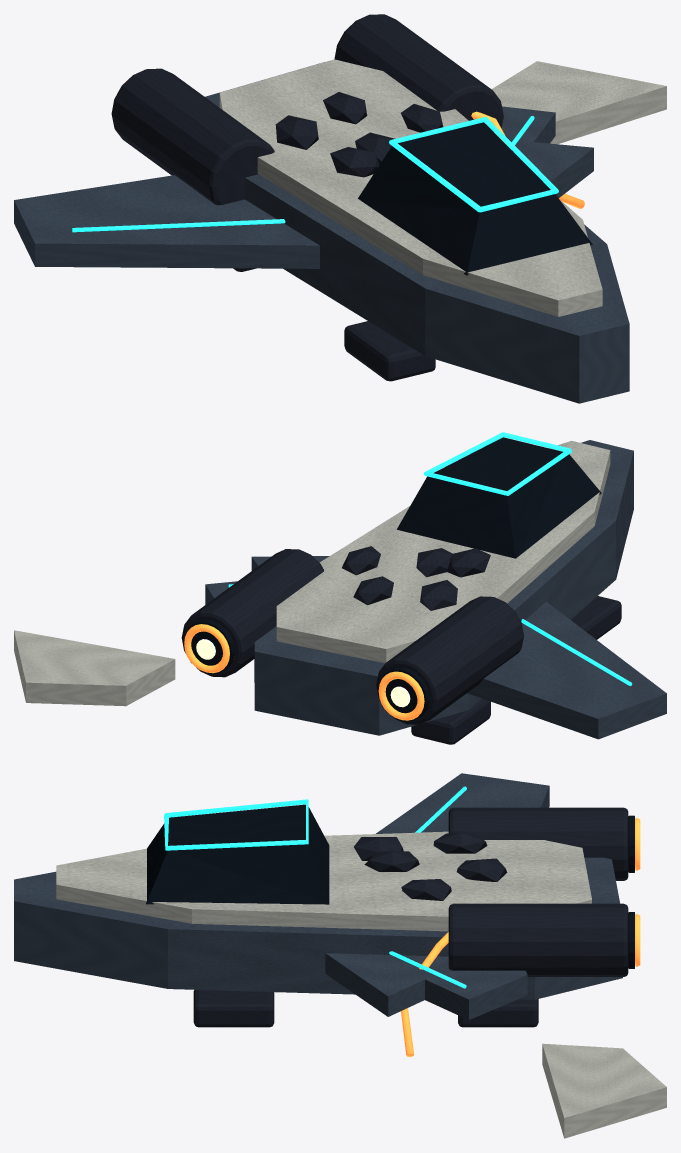
Rendered from CrashedShip.fbx.
3 renders of one model, top to bottom at view 1: azimuth 30°, elevation 25°; view 2: azimuth 150°, elevation 25°; view 3: azimuth 270°, elevation 25°, orthographic. The views are drawn at different scales.
Parts seen in each view (by area): view 1: SM_CrashedShip; view 2: SM_CrashedShip; view 3: SM_CrashedShip.
Part boxes in pixels (left/top/right/bottom): SM_CrashedShip: left=14, top=14, right=666, bottom=403; SM_CrashedShip: left=14, top=432, right=666, bottom=744; SM_CrashedShip: left=14, top=773, right=666, bottom=1138.
Bounding box in the file's own units: 960 × 890 × 241.
1 material, 1 textured.
